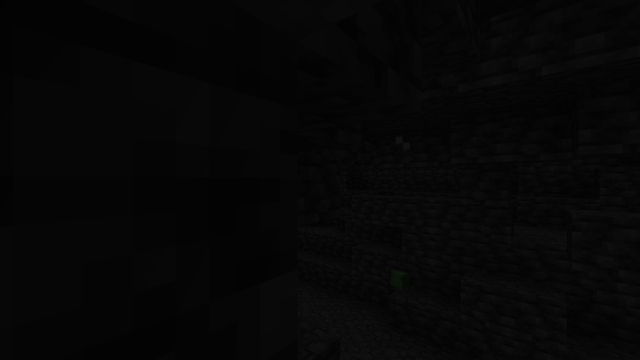slimes: (391, 268, 410, 290)
